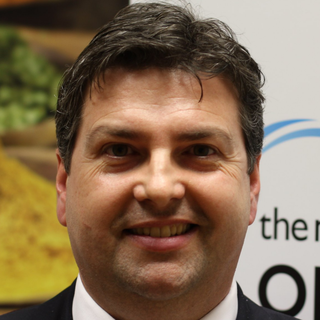eye: (95, 140, 144, 164), (178, 140, 225, 165)
